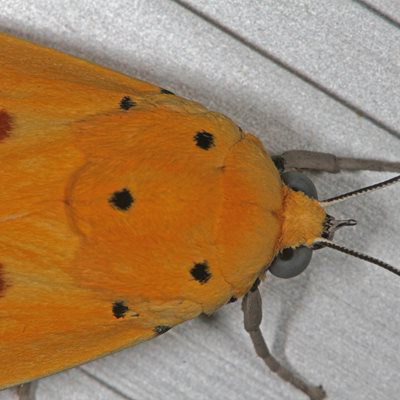Agape chloropyga: (1, 27, 400, 400)
moth: (1, 27, 400, 400)
